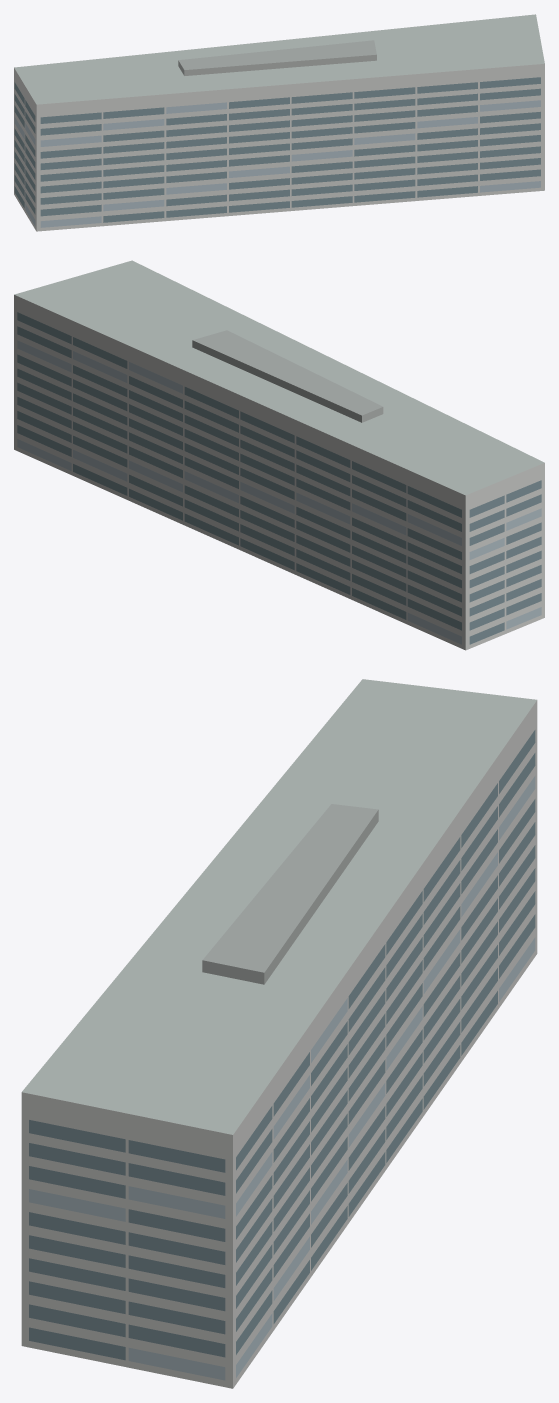
Rendered from named-apt-8eda9535-418c-4051-b4de-896e1f632d3b.glb.
The picture shows the model from 3 angles, top to bottom: view 1: azimuth 30°, elevation 25°; view 2: azimuth 150°, elevation 25°; view 3: azimuth 270°, elevation 25°; orthographic projection. The views are drawn at different scales.
Visible parts, largest first — view 1: named-apt-8eda9535-418c-4051-b4de-896e1f632d3b; view 2: named-apt-8eda9535-418c-4051-b4de-896e1f632d3b; view 3: named-apt-8eda9535-418c-4051-b4de-896e1f632d3b.
Boxes of the visible parts, bbox=[...] form: named-apt-8eda9535-418c-4051-b4de-896e1f632d3b: bbox=[14, 14, 544, 231]; named-apt-8eda9535-418c-4051-b4de-896e1f632d3b: bbox=[14, 260, 544, 650]; named-apt-8eda9535-418c-4051-b4de-896e1f632d3b: bbox=[21, 679, 537, 1388].
Size of the model in its own units: 107 by 29 by 51.01.
